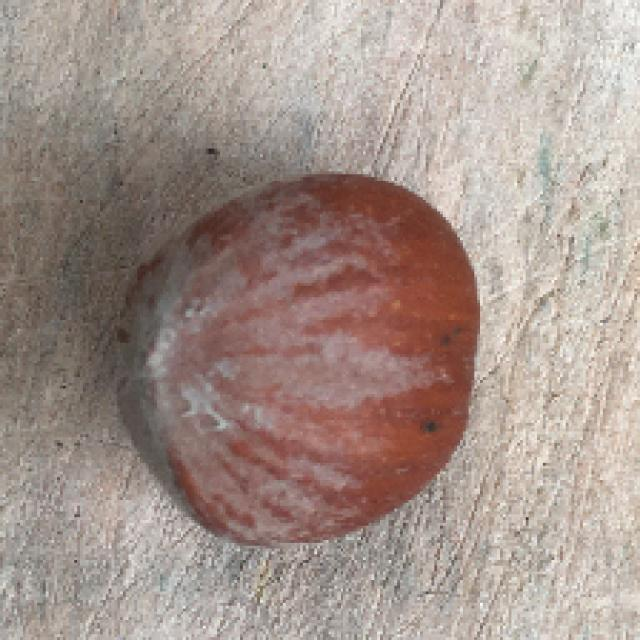qualityHazelnut: (99, 167, 496, 552)
